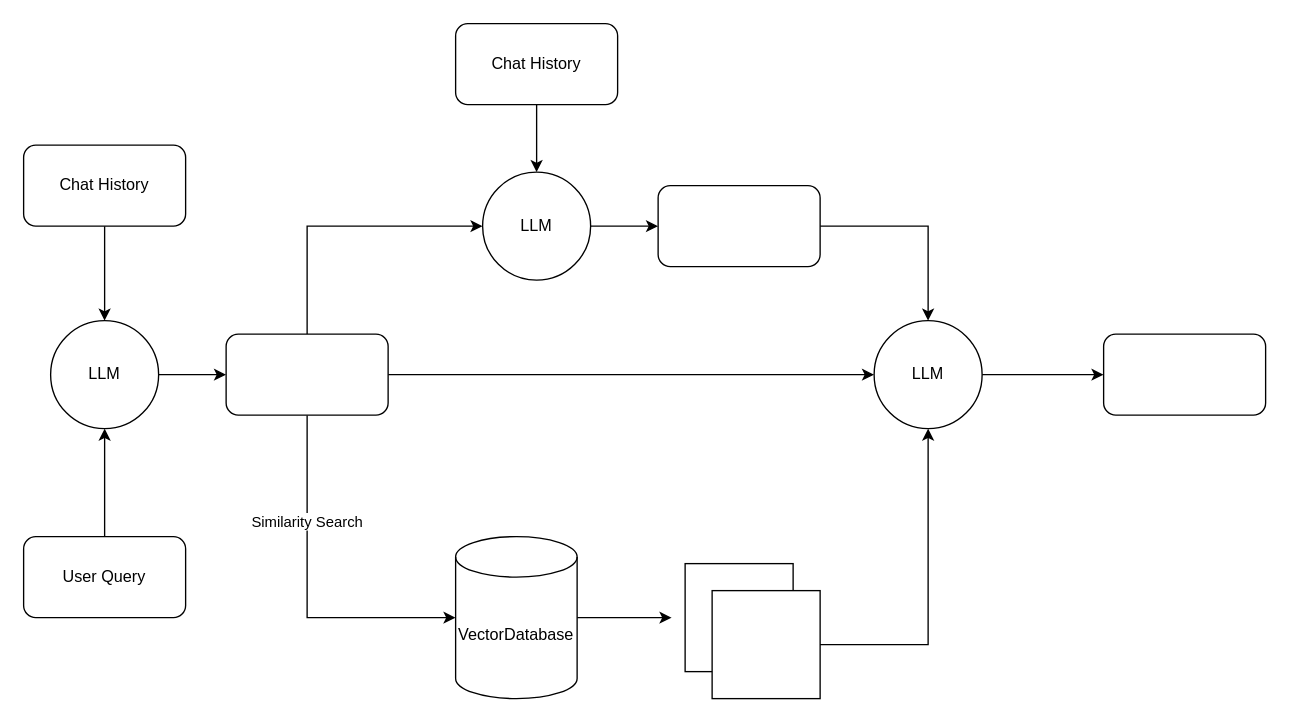
The diagram is 1289 pixels wide and 722 high, and some of its shapes have lost their labels. Here are the shapes that lost their labels. From the top down, the box of each, then its label:
(657, 184, 820, 267): Relevant Chat History
(225, 333, 388, 415): Standalone Question
(1102, 333, 1266, 415): Answer
(711, 589, 820, 699): Relevant Documents
